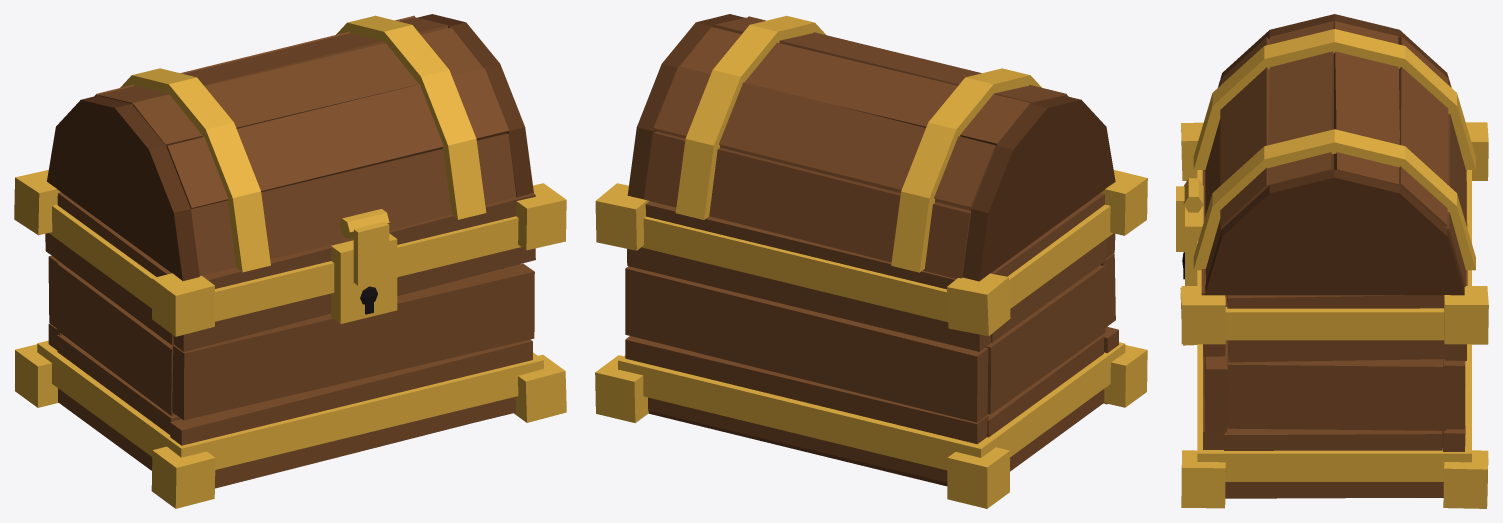
File: chest.glb
3 views of the same model, side by side, from view 1: azimuth 30°, elevation 25°; view 2: azimuth 150°, elevation 25°; view 3: azimuth 270°, elevation 25° (orthographic). The views are drawn at different scales.
Parts seen in each view (by area): view 1: ChestBody, Lid; view 2: ChestBody, Lid; view 3: Lid, ChestBody.
Boxes of the visible parts, bbox=[...] form: ChestBody: bbox=[14, 170, 566, 508]; Lid: bbox=[47, 14, 533, 285]; ChestBody: bbox=[595, 170, 1147, 508]; Lid: bbox=[627, 14, 1115, 281]; Lid: bbox=[1176, 14, 1475, 295]; ChestBody: bbox=[1180, 122, 1488, 508].
Bounding box in the file's own units: 0.6939 × 0.5875 × 0.5008.
